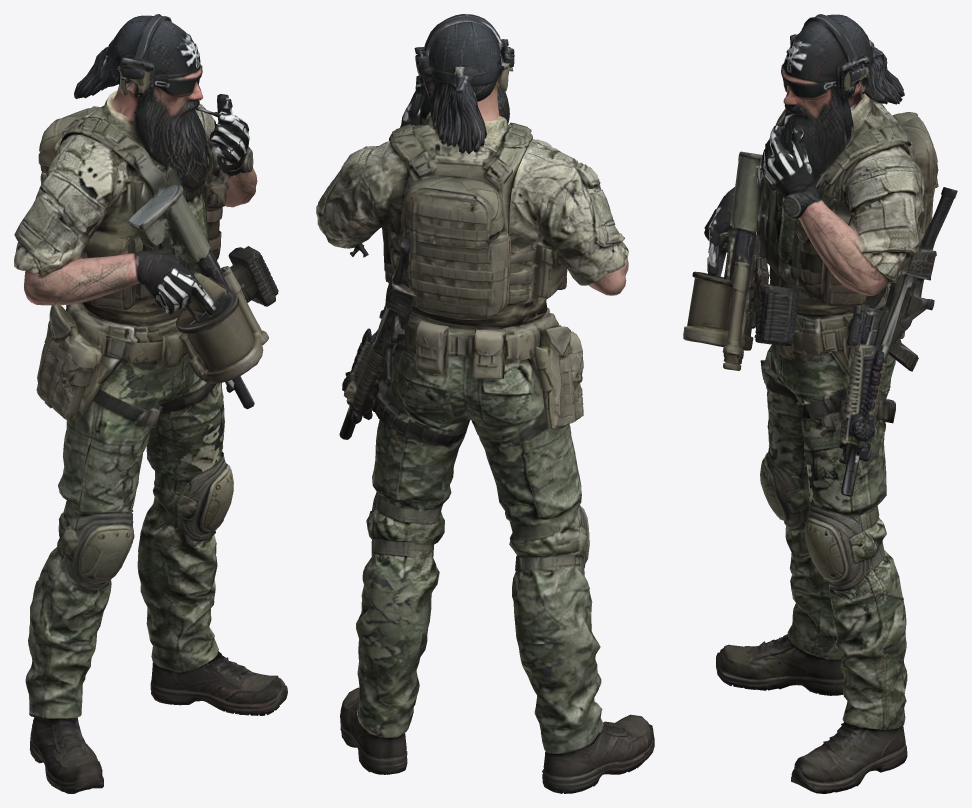
Rendered from goon-3.glb.
3 views of the same model, side by side, from view 1: azimuth 30°, elevation 25°; view 2: azimuth 150°, elevation 25°; view 3: azimuth 270°, elevation 25° (orthographic). The views are drawn at different scales.
Parts seen in each view (by area): view 1: tripo_node_92f203bc-f0eb-496a-bb92-f8a614e9dbf0; view 2: tripo_node_92f203bc-f0eb-496a-bb92-f8a614e9dbf0; view 3: tripo_node_92f203bc-f0eb-496a-bb92-f8a614e9dbf0.
Part boxes in pixels (x1=…): tripo_node_92f203bc-f0eb-496a-bb92-f8a614e9dbf0: x1=14, y1=14, x2=287, y2=793; tripo_node_92f203bc-f0eb-496a-bb92-f8a614e9dbf0: x1=316, y1=14, x2=654, y2=793; tripo_node_92f203bc-f0eb-496a-bb92-f8a614e9dbf0: x1=683, y1=14, x2=957, y2=793.
Bounding box in the file's own units: 0.3864 × 0.9784 × 0.3375.
Materials: 1 (1 with a texture image).
